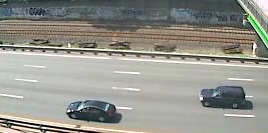car: (65, 97, 119, 125), (198, 84, 248, 110)
